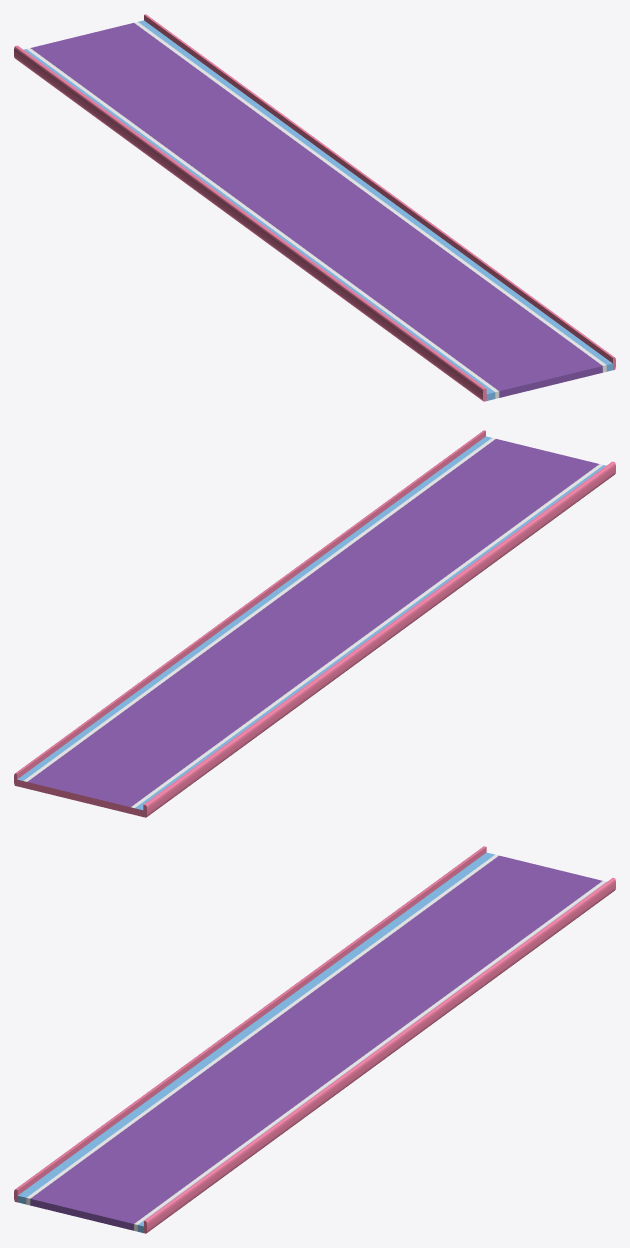
File: Road25M.fbx
3 renders of one model, top to bottom at view 1: azimuth 30°, elevation 25°; view 2: azimuth 150°, elevation 25°; view 3: azimuth 330°, elevation 25°, orthographic.
Visible parts, largest first — view 1: Road, Road25_Side; view 2: Road, Road25_Side; view 3: Road, Road25_Side.
Boxes of the visible parts, x1,y1,x2,y2 form: Road: [24, 20, 612, 400]; Road25_Side: [14, 14, 615, 401]; Road: [17, 436, 605, 816]; Road25_Side: [14, 430, 615, 817]; Road: [17, 852, 606, 1233]; Road25_Side: [14, 846, 615, 1233].
Bounding box in the file's own units: 410 × 36.51 × 2500.
